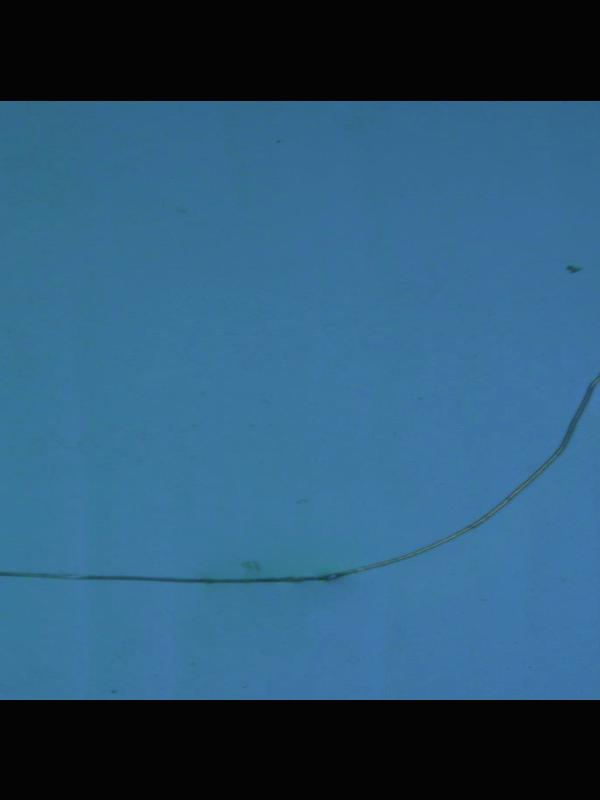microplastic: (0, 278, 600, 587)
